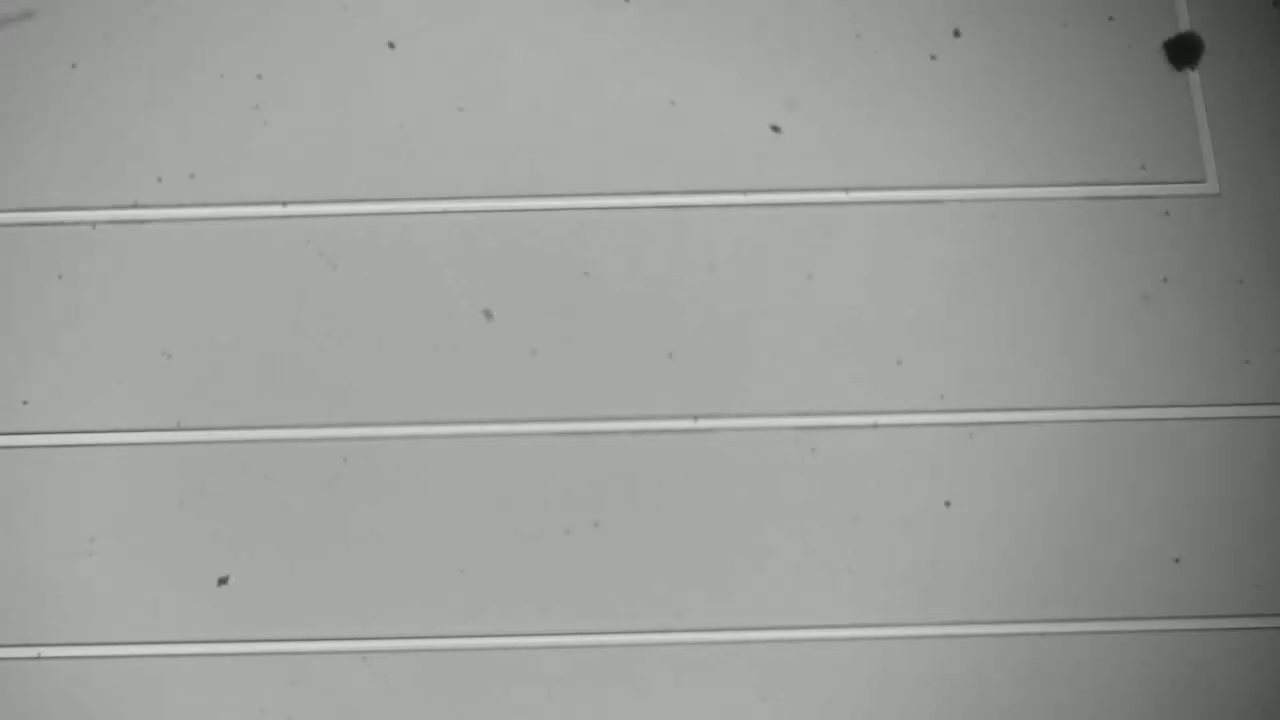stains_enbedded: (1146, 20, 1240, 82)
